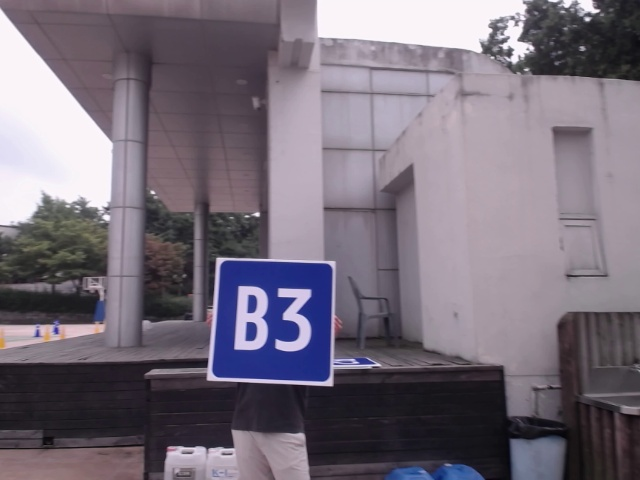delivery_b3: (210, 259, 334, 386)
